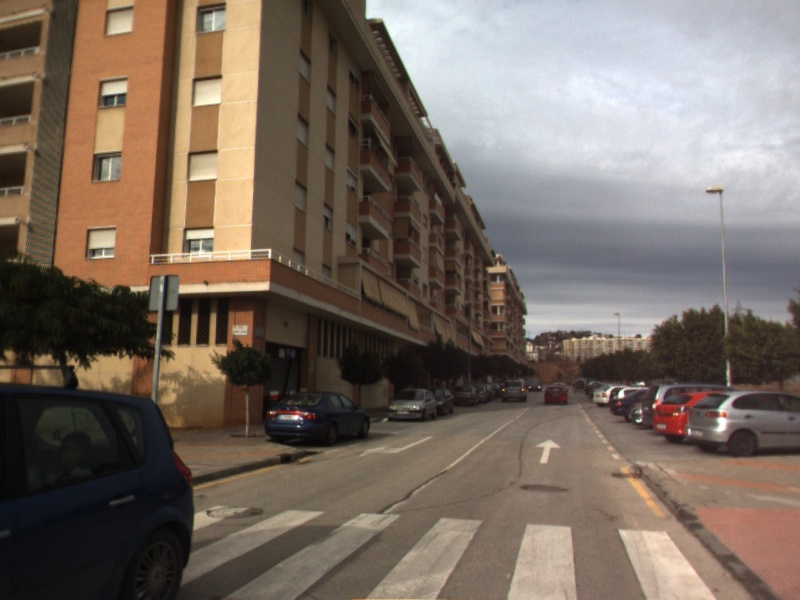STRAIGHT: (532, 436, 563, 465)
